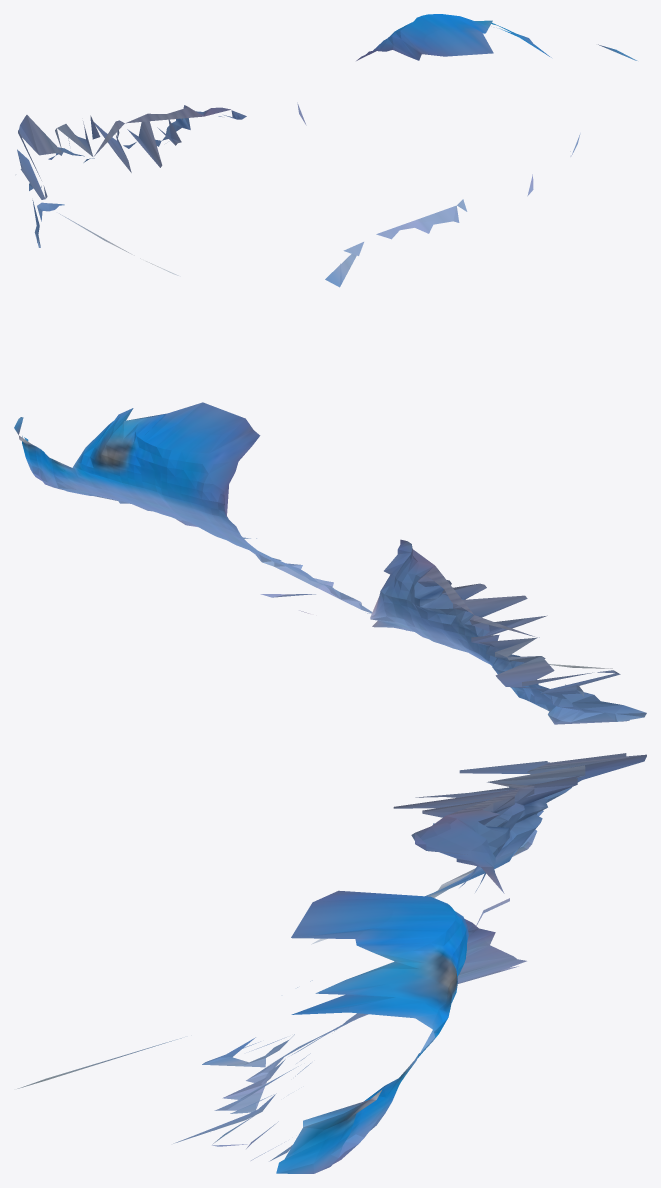
Rendered from observed-surface.glb.
3 views of the same model, one above another, from view 1: azimuth 30°, elevation 25°; view 2: azimuth 150°, elevation 25°; view 3: azimuth 270°, elevation 25° (orthographic). The views are drawn at different scales.
Visible parts, largest first — view 1: geometry_0; view 2: geometry_0; view 3: geometry_0.
Boxes of the visible parts, x1=… form: geometry_0: x1=17, y1=14, x2=637, y2=287; geometry_0: x1=14, y1=402, x2=646, y2=724; geometry_0: x1=17, y1=753, x2=646, y2=1173.
Bounding box in the file's own units: 0.6957 × 0.246 × 0.4289.
Materials: 1 (1 with a texture image).
